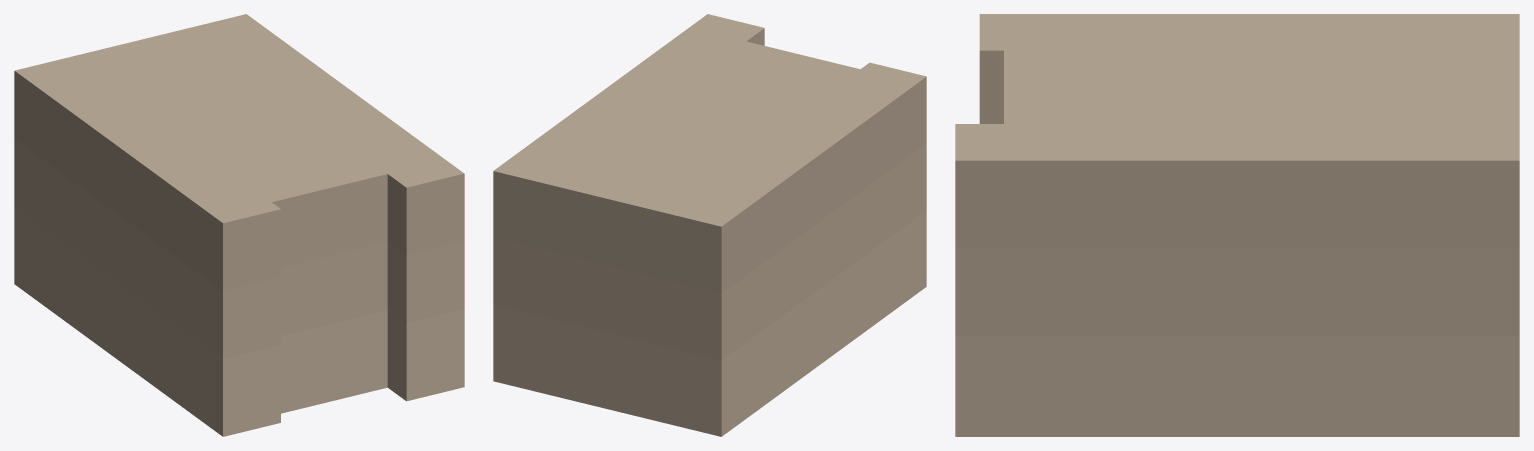
File: massing.glb
3 views of the same model, side by side, from view 1: azimuth 30°, elevation 25°; view 2: azimuth 150°, elevation 25°; view 3: azimuth 270°, elevation 25° (orthographic). The views are drawn at different scales.
Parts seen in each view (by area): view 1: main/floor3/0/0, main/floor1/0/0, main/floor2/0/0; view 2: main/floor3/0/0, main/floor1/0/0, main/floor2/0/0; view 3: main/floor3/0/0, main/floor1/0/0, main/floor2/0/0.
Part boxes in pixels (left/top/right/bottom): main/floor3/0/0: left=14, top=14, right=464, bottom=291; main/floor1/0/0: left=14, top=207, right=464, bottom=436; main/floor2/0/0: left=14, top=139, right=464, bottom=359; main/floor3/0/0: left=493, top=14, right=926, bottom=293; main/floor1/0/0: left=493, top=210, right=926, bottom=436; main/floor2/0/0: left=493, top=143, right=926, bottom=360; main/floor3/0/0: left=955, top=14, right=1519, bottom=248; main/floor1/0/0: left=955, top=336, right=1519, bottom=436; main/floor2/0/0: left=955, top=248, right=1519, bottom=336.
Bounding box in the file's own units: 10 × 8.8 × 16.27.
